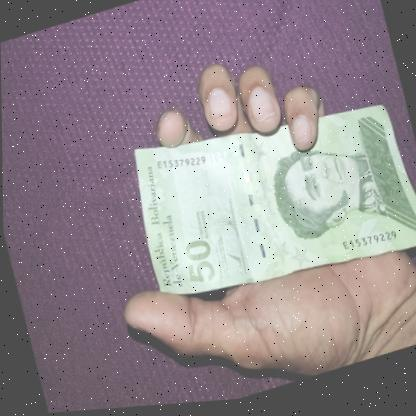fifty-front-vef: (120, 72, 416, 329)
